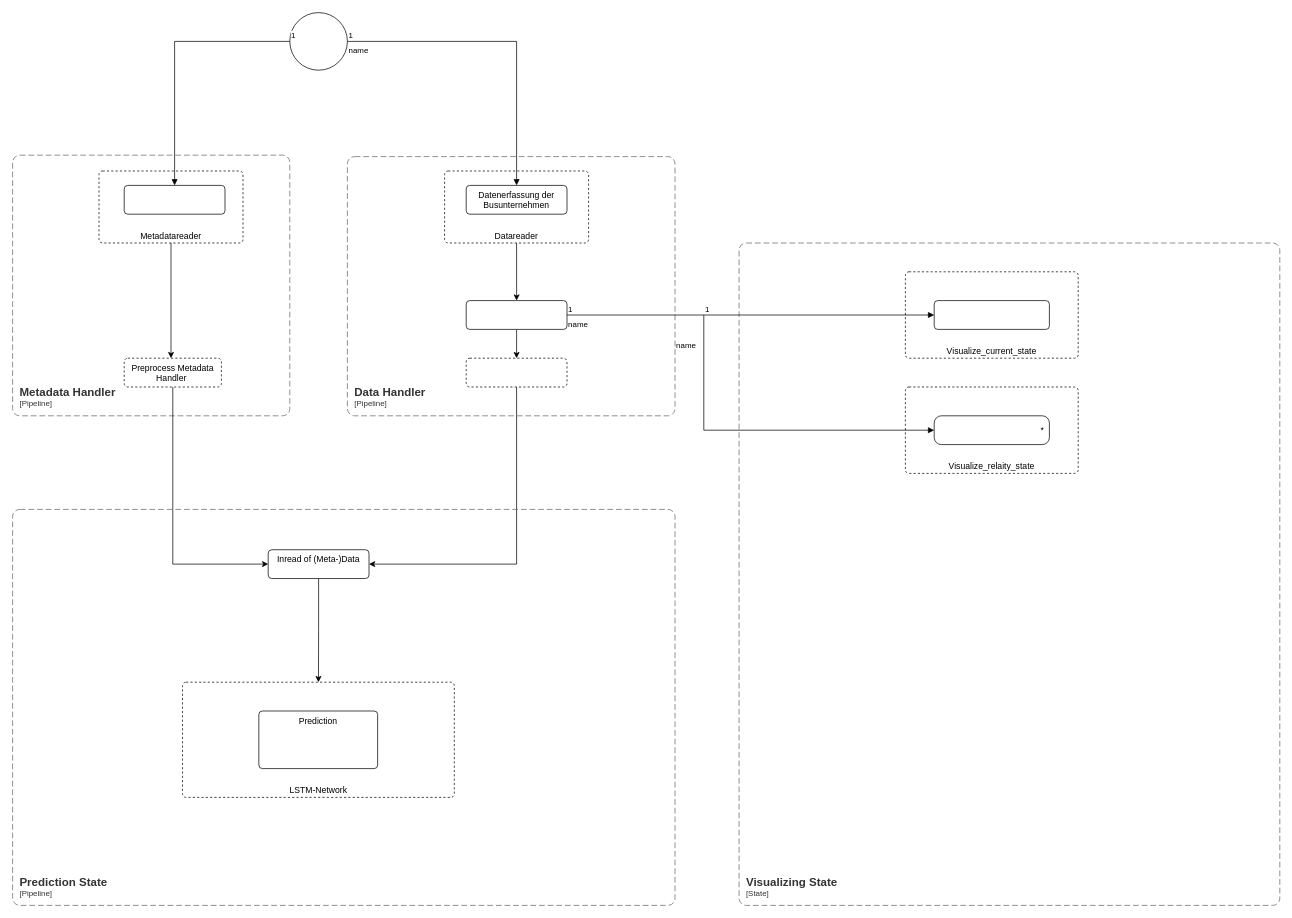
Some shapes in this 1292 by 918 pixel diagram are drawn without their labels. The shapes that lost their labels are listed below. From the top down, each one's centre as x and y in pixels, then its label:
[318,41]: Start
[174,199]: Erfassung von Metadaten
[516,314]: Analyse
[991,314]: Visualisierung IST-Zustand
[516,372]: Preprocess Data Handler
[991,430]: Visualisierung SOLL-Zustand
